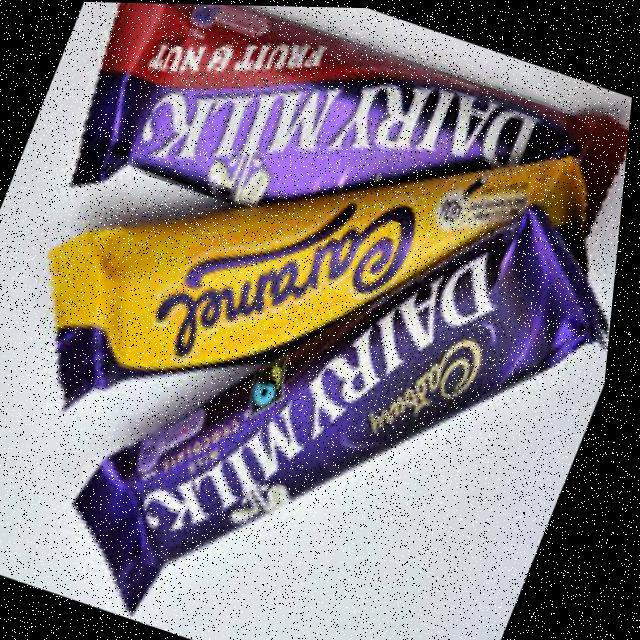cadbury_chocolate: (85, 202, 610, 610), (73, 0, 620, 207)
